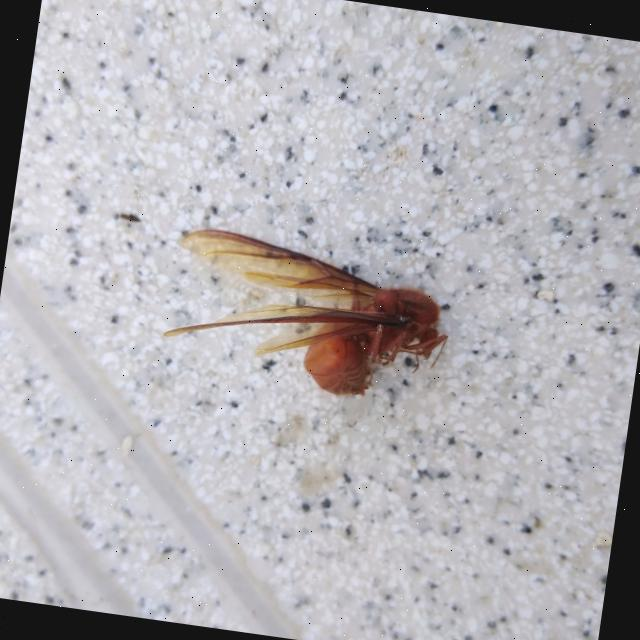Dead-Male-Alate: (158, 225, 458, 412)
